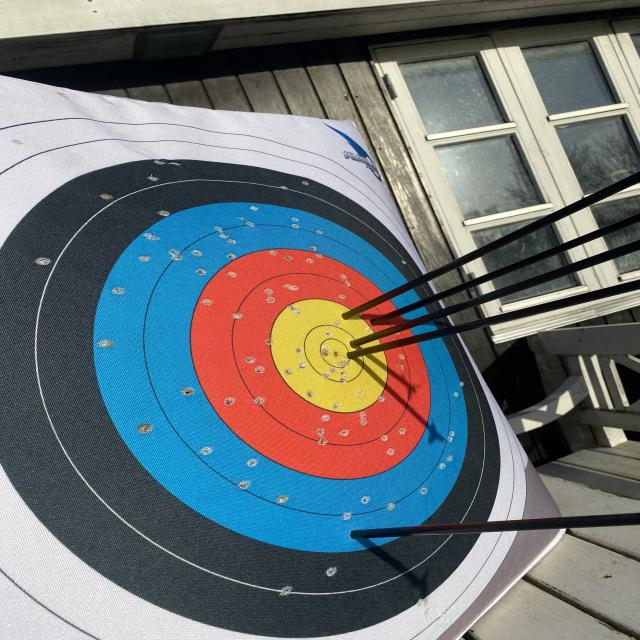Arrow_Blue: (341, 523, 385, 548)
Arrow_Red: (370, 312, 390, 332)
Arrow_Yellow: (330, 305, 364, 327), (342, 331, 368, 352), (341, 349, 366, 367)
